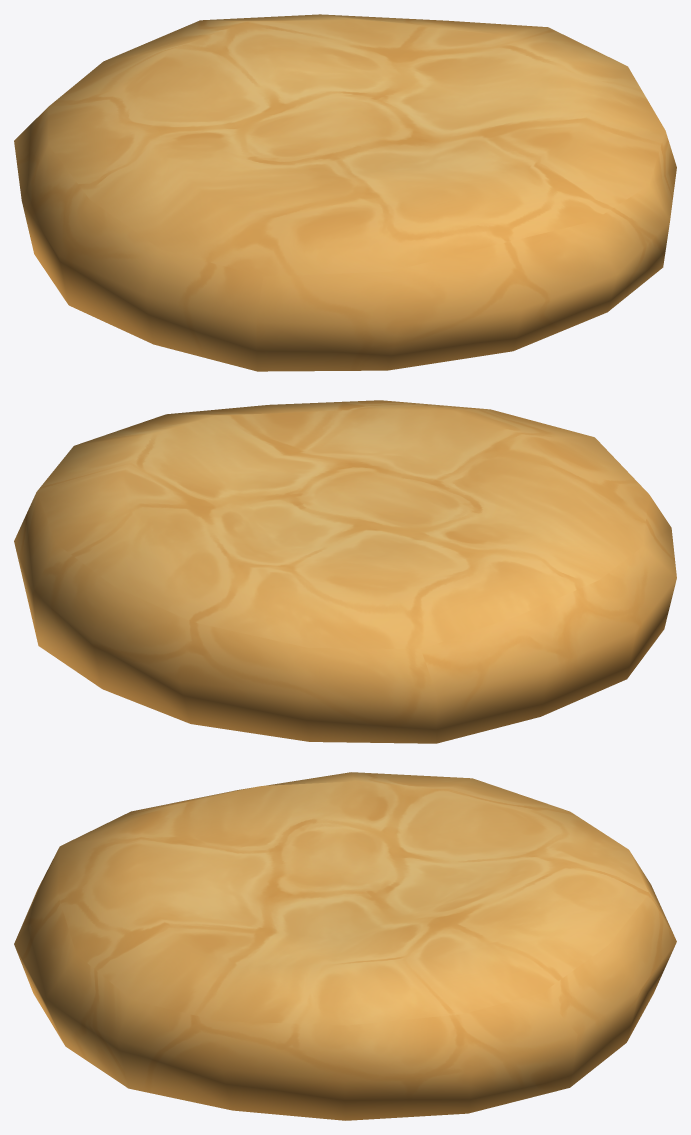
File: cookie.gltf
3 views of the same model, one above another, from view 1: azimuth 30°, elevation 25°; view 2: azimuth 150°, elevation 25°; view 3: azimuth 270°, elevation 25° (orthographic).
Parts seen in each view (by area): view 1: Cylinder; view 2: Cylinder; view 3: Cylinder.
Boxes of the visible parts, <box> form: Cylinder: <box>14,14,676,371</box>; Cylinder: <box>14,400,676,743</box>; Cylinder: <box>14,772,676,1120</box>.
Size of the model in its own units: 1.97 by 0.4185 by 1.97.
